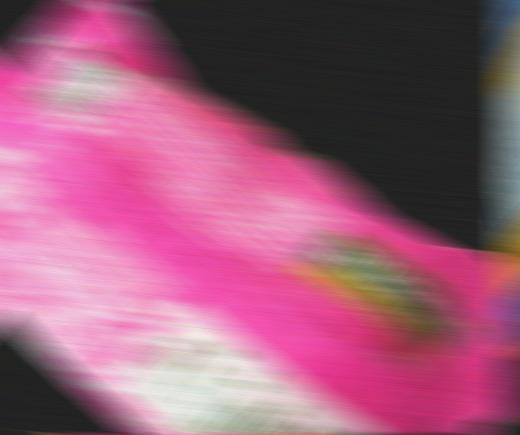Datu Puti Patis: (51, 434, 368, 435)
mountain dew: (502, 434, 520, 435)
palmolive soap: (0, 0, 520, 434)
vcut cheese: (502, 0, 520, 399)
